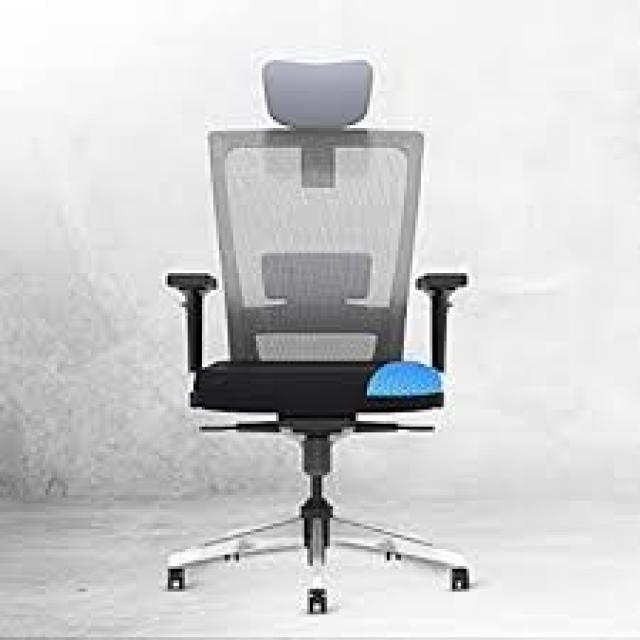chair: (92, 25, 549, 640)
